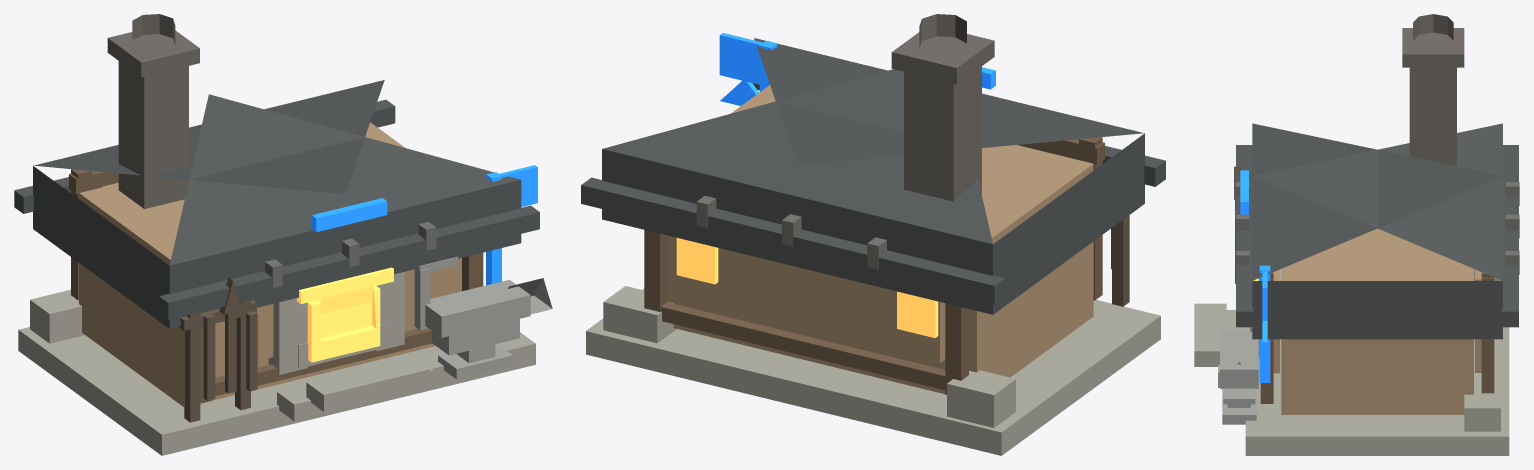
The model's file is blacksmith.glb.
3 views of the same model, side by side, from view 1: azimuth 30°, elevation 25°; view 2: azimuth 150°, elevation 25°; view 3: azimuth 270°, elevation 25° (orthographic). The views are drawn at different scales.
Visible parts, largest first — view 1: blacksmith_building_lowpoly_candidate_001; view 2: blacksmith_building_lowpoly_candidate_001; view 3: blacksmith_building_lowpoly_candidate_001.
Boxes of the visible parts, <box> form: blacksmith_building_lowpoly_candidate_001: <box>14,14,552,455</box>; blacksmith_building_lowpoly_candidate_001: <box>581,14,1165,455</box>; blacksmith_building_lowpoly_candidate_001: <box>1194,14,1519,455</box>.
Bounding box in the file's own units: 3.81 × 3.17 × 3.04.
